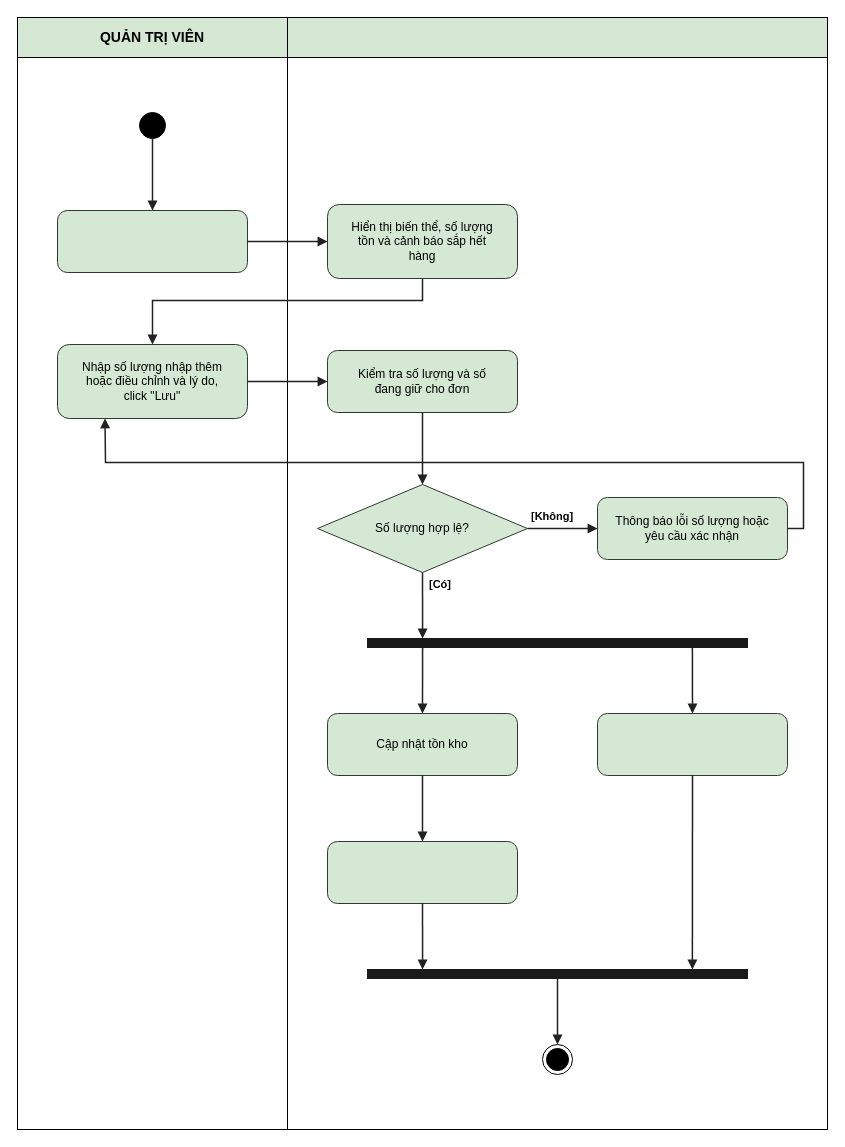
The diagram is 845 pixels wide and 1147 high, and some of its shapes have lost their labels. Here are the shapes that lost their labels. From the top down, the centre of each, then its label:
(557,37): HỆ THỐNG
(152,241): Vào "Quản lý tồn kho", chọn biến thể cần cập nhật
(692,744): Cập nhật trạng thái còn hàng / hết hàng
(422,872): Ghi lịch sử thay đổi
